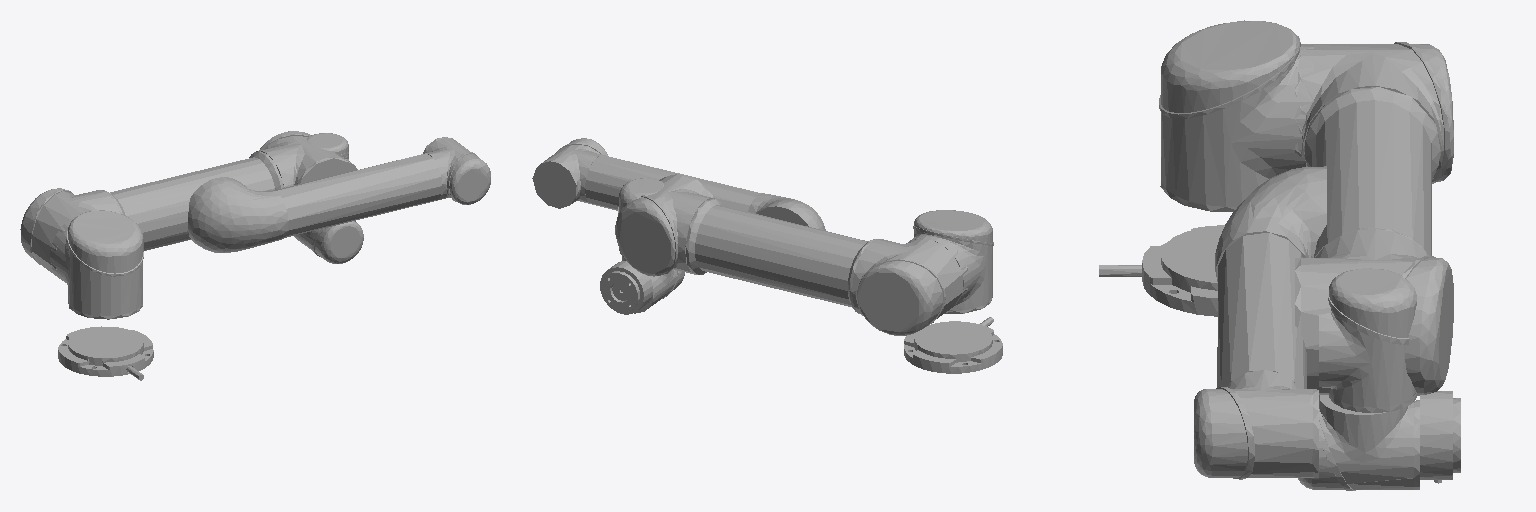
The robot description file, URDF, robot "robotiq_ur3":
<?xml version="1.0" ?>
<!-- =================================================================================== -->
<!-- |    This document was autogenerated by xacro from robitiq_ur3.urdf.xacro         | -->
<!-- |    EDITING THIS FILE BY HAND IS NOT RECOMMENDED                                 | -->
<!-- =================================================================================== -->
<robot name="robotiq_ur3" xmlns:xacro="http://ros.org/wiki/xacro">
  <material name="Black">
    <color rgba="0.3 0.3 0.3 1.0"/>
  </material>

  <gazebo>
    <plugin filename="libgazebo_ros_control.so" name="ros_control">
      <!--robotNamespace>/</robotNamespace-->
      <!--robotSimType>gazebo_ros_control/DefaultRobotHWSim</robotSimType-->
    </plugin>
    <!--
    <plugin name="gazebo_ros_power_monitor_controller" filename="libgazebo_ros_power_monitor.so">
      <alwaysOn>true</alwaysOn>
      <updateRate>1.0</updateRate>
      <timeout>5</timeout>
      <powerStateTopic>power_state</powerStateTopic>
      <powerStateRate>10.0</powerStateRate>
      <fullChargeCapacity>87.78</fullChargeCapacity>     
      <dischargeRate>-474</dischargeRate>
      <chargeRate>525</chargeRate>
      <dischargeVoltage>15.52</dischargeVoltage>
      <chargeVoltage>16.41</chargeVoltage>
    </plugin>
-->
  </gazebo>
  <!--
  Author: [author]
-->
  <!-- measured from model -->
  <link name="base_link">
    <visual>
      <geometry>
        <mesh filename="./meshes/ur3/collision/base.stl"/>
      </geometry>
      <material name="LightGrey">
        <color rgba="0.7 0.7 0.7 1.0"/>
      </material>
    </visual>
    <collision>
      <geometry>
        <mesh filename="./meshes/ur3/collision/base.stl"/>
      </geometry>
    </collision>
    <inertial>
      <mass value="2.0"/>
      <origin rpy="0 0 0" xyz="0.0 0.0 0.0"/>
      <inertia ixx="0.0030531654454" ixy="0.0" ixz="0.0" iyy="0.0030531654454" iyz="0.0" izz="0.005625"/>
    </inertial>
  </link>
  <joint name="shoulder_pan_joint" type="revolute">
    <parent link="base_link"/>
    <child link="shoulder_link"/>
    <origin rpy="0.0 0.0 0.0" xyz="0.0 0.0 0.1519"/>
    <axis xyz="0 0 1"/>
    <limit effort="330.0" lower="-3.141592653589793" upper="3.141592653589793" velocity="2.16"/>
    <dynamics damping="0.0" friction="0.0"/>
  </joint>
  <link name="shoulder_link">
    <visual>
      <geometry>
        <mesh filename="./meshes/ur3/collision/shoulder.stl"/>
      </geometry>
      <material name="LightGrey">
        <color rgba="0.7 0.7 0.7 1.0"/>
      </material>
    </visual>
    <collision>
      <geometry>
        <mesh filename="./meshes/ur3/collision/shoulder.stl"/>
      </geometry>
    </collision>
    <inertial>
      <mass value="2.0"/>
      <origin rpy="0 0 0" xyz="0.0 0.0 0.0"/>
      <inertia ixx="0.008093163429399999" ixy="0.0" ixz="0.0" iyy="0.008093163429399999" iyz="0.0" izz="0.005625"/>
    </inertial>
  </link>
  <joint name="shoulder_lift_joint" type="revolute">
    <parent link="shoulder_link"/>
    <child link="upper_arm_link"/>
    <origin rpy="0.0 1.5707963267948966 0.0" xyz="0.0 0.1198 0.0"/>
    <axis xyz="0 1 0"/>
    <limit effort="330.0" lower="-3.141592653589793" upper="3.141592653589793" velocity="2.16"/>
    <dynamics damping="0.0" friction="0.0"/>
  </joint>
  <link name="upper_arm_link">
    <visual>
      <geometry>
        <mesh filename="./meshes/ur3/collision/upperarm.stl"/>
      </geometry>
      <material name="LightGrey">
        <color rgba="0.7 0.7 0.7 1.0"/>
      </material>
    </visual>
    <collision>
      <geometry>
        <mesh filename="./meshes/ur3/collision/upperarm.stl"/>
      </geometry>
    </collision>
    <inertial>
      <mass value="3.42"/>
      <origin rpy="0 0 0" xyz="0.0 0.0 0.121825"/>
      <inertia ixx="0.021728483221103233" ixy="0.0" ixz="0.0" iyy="0.021728483221103233" iyz="0.0" izz="0.00961875"/>
    </inertial>
  </link>
  <joint name="elbow_joint" type="revolute">
    <parent link="upper_arm_link"/>
    <child link="forearm_link"/>
    <origin rpy="0.0 0.0 0.0" xyz="0.0 -0.0925 0.24365"/>
    <axis xyz="0 1 0"/>
    <limit effort="150.0" lower="-3.141592653589793" upper="3.141592653589793" velocity="3.15"/>
    <dynamics damping="0.0" friction="0.0"/>
  </joint>
  <link name="forearm_link">
    <visual>
      <geometry>
        <mesh filename="./meshes/ur3/collision/forearm.stl"/>
      </geometry>
      <material name="LightGrey">
        <color rgba="0.7 0.7 0.7 1.0"/>
      </material>
    </visual>
    <collision>
      <geometry>
        <mesh filename="./meshes/ur3/collision/forearm.stl"/>
      </geometry>
    </collision>
    <inertial>
      <mass value="1.26"/>
      <origin rpy="0 0 0" xyz="0.0 0.0 0.106625"/>
      <inertia ixx="0.006546806443776375" ixy="0.0" ixz="0.0" iyy="0.006546806443776375" iyz="0.0" izz="0.00354375"/>
    </inertial>
  </link>
  <joint name="wrist_1_joint" type="revolute">
    <parent link="forearm_link"/>
    <child link="wrist_1_link"/>
    <origin rpy="0.0 1.5707963267948966 0.0" xyz="0.0 0.0 0.21325"/>
    <axis xyz="0 1 0"/>
    <limit effort="54.0" lower="-3.141592653589793" upper="3.141592653589793" velocity="3.2"/>
    <dynamics damping="0.0" friction="0.0"/>
  </joint>
  <link name="wrist_1_link">
    <visual>
      <geometry>
        <mesh filename="./meshes/ur3/collision/wrist1.stl"/>
      </geometry>
      <material name="LightGrey">
        <color rgba="0.7 0.7 0.7 1.0"/>
      </material>
    </visual>
    <collision>
      <geometry>
        <mesh filename="./meshes/ur3/collision/wrist1.stl"/>
      </geometry>
    </collision>
    <inertial>
      <mass value="0.8"/>
      <origin rpy="0 0 0" xyz="0.0 0.0 0.0"/>
      <inertia ixx="0.002084999166" ixy="0.0" ixz="0.0" iyy="0.002084999166" iyz="0.0" izz="0.00225"/>
    </inertial>
  </link>
  <joint name="wrist_2_joint" type="revolute">
    <parent link="wrist_1_link"/>
    <child link="wrist_2_link"/>
    <origin rpy="0.0 0.0 0.0" xyz="0.0 0.08505 0.0"/>
    <axis xyz="0 0 1"/>
    <limit effort="54.0" lower="-3.141592653589793" upper="3.141592653589793" velocity="3.2"/>
    <dynamics damping="0.0" friction="0.0"/>
  </joint>
  <link name="wrist_2_link">
    <visual>
      <geometry>
        <mesh filename="./meshes/ur3/collision/wrist2.stl"/>
      </geometry>
      <material name="LightGrey">
        <color rgba="0.7 0.7 0.7 1.0"/>
      </material>
    </visual>
    <collision>
      <geometry>
        <mesh filename="./meshes/ur3/collision/wrist2.stl"/>
      </geometry>
    </collision>
    <inertial>
      <mass value="0.8"/>
      <origin rpy="0 0 0" xyz="0.0 0.0 0.0"/>
      <inertia ixx="0.002084999166" ixy="0.0" ixz="0.0" iyy="0.002084999166" iyz="0.0" izz="0.00225"/>
    </inertial>
  </link>
  <joint name="wrist_3_joint" type="revolute">
    <parent link="wrist_2_link"/>
    <child link="wrist_3_link"/>
    <origin rpy="0.0 0.0 0.0" xyz="0.0 0.0 0.08535"/>
    <axis xyz="0 1 0"/>
    <limit effort="54.0" lower="-3.141592653589793" upper="3.141592653589793" velocity="3.2"/>
    <dynamics damping="0.0" friction="0.0"/>
  </joint>
  <link name="wrist_3_link">
    <visual>
      <geometry>
        <mesh filename="./meshes/ur3/collision/wrist3.stl"/>
      </geometry>
      <material name="LightGrey">
        <color rgba="0.7 0.7 0.7 1.0"/>
      </material>
    </visual>
    <collision>
      <geometry>
        <mesh filename="./meshes/ur3/collision/wrist3.stl"/>
      </geometry>
    </collision>
    <inertial>
      <mass value="0.35"/>
      <origin rpy="0 0 0" xyz="0.0 0.0 0.0"/>
      <inertia ixx="0.0009121871351249998" ixy="0.0" ixz="0.0" iyy="0.0009121871351249998" iyz="0.0" izz="0.000984375"/>
    </inertial>
  </link>
  <joint name="ee_fixed_joint" type="fixed">
    <parent link="wrist_3_link"/>
    <child link="ee_link"/>
    <origin rpy="0.0 0.0 1.5707963267948966" xyz="0.0 0.0819 0.0"/>
  </joint>
  <link name="ee_link">
    <collision>
      <geometry>
        <box size="0.01 0.01 0.01"/>
      </geometry>
      <origin rpy="0 0 0" xyz="-0.01 0 0"/>
    </collision>
  </link>
  <transmission name="shoulder_pan_trans">
    <type>transmission_interface/SimpleTransmission</type>
    <joint name="shoulder_pan_joint">
      <hardwareInterface>hardware_interface/PositionJointInterface</hardwareInterface>
    </joint>
    <actuator name="shoulder_pan_motor">
      <mechanicalReduction>1</mechanicalReduction>
    </actuator>
  </transmission>
  <transmission name="shoulder_lift_trans">
    <type>transmission_interface/SimpleTransmission</type>
    <joint name="shoulder_lift_joint">
      <hardwareInterface>hardware_interface/PositionJointInterface</hardwareInterface>
    </joint>
    <actuator name="shoulder_lift_motor">
      <mechanicalReduction>1</mechanicalReduction>
    </actuator>
  </transmission>
  <transmission name="elbow_trans">
    <type>transmission_interface/SimpleTransmission</type>
    <joint name="elbow_joint">
      <hardwareInterface>hardware_interface/PositionJointInterface</hardwareInterface>
    </joint>
    <actuator name="elbow_motor">
      <mechanicalReduction>1</mechanicalReduction>
    </actuator>
  </transmission>
  <transmission name="wrist_1_trans">
    <type>transmission_interface/SimpleTransmission</type>
    <joint name="wrist_1_joint">
      <hardwareInterface>hardware_interface/PositionJointInterface</hardwareInterface>
    </joint>
    <actuator name="wrist_1_motor">
      <mechanicalReduction>1</mechanicalReduction>
    </actuator>
  </transmission>
  <transmission name="wrist_2_trans">
    <type>transmission_interface/SimpleTransmission</type>
    <joint name="wrist_2_joint">
      <hardwareInterface>hardware_interface/PositionJointInterface</hardwareInterface>
    </joint>
    <actuator name="wrist_2_motor">
      <mechanicalReduction>1</mechanicalReduction>
    </actuator>
  </transmission>
  <transmission name="wrist_3_trans">
    <type>transmission_interface/SimpleTransmission</type>
    <joint name="wrist_3_joint">
      <hardwareInterface>hardware_interface/PositionJointInterface</hardwareInterface>
    </joint>
    <actuator name="wrist_3_motor">
      <mechanicalReduction>1</mechanicalReduction>
    </actuator>
  </transmission>
  <!-- nothing to do here at the moment -->
  <!-- ROS base_link to UR 'Base' Coordinates transform -->
  <link name="base"/>
  <joint name="base_link-base_fixed_joint" type="fixed">
    <!-- NOTE: this rotation is only needed as long as base_link itself is
                 not corrected wrt the real robot (ie: rotated over 180
                 degrees)
      -->
    <origin rpy="0 0 -3.141592653589793" xyz="0 0 0"/>
    <parent link="base_link"/>
    <child link="base"/>
  </joint>
  <!-- Frame coincident with all-zeros TCP on UR controller -->
  <link name="tool0"/>
  <joint name="wrist_3_link-tool0_fixed_joint" type="fixed">
    <origin rpy="-1.5707963267948966 0 0" xyz="0 0.0819 0"/>
    <parent link="wrist_3_link"/>
    <child link="tool0"/>
  </joint>
  <link name="world"/>
  <joint name="world_joint" type="fixed">
    <parent link="world"/>
    <child link="base_link"/>
    <origin rpy="0.0 0.0 0.0" xyz="0.0 0.0 0.0"/>
  </joint>

  <!-- base -->
  <joint name="ee_link_gripper_base_joint" type="fixed">
    <origin rpy="0 1.5707963267948966 0" xyz="0 0 0"/>
    <parent link="ee_link"/>
    <child link="gripper_base"/>
  </joint>
  <link name="gripper_base">
    <!-- inertial>
				<mass value="0.1"/>
				<origin xyz="0 0 0.055"  />
				<cylinder_inertia radius="0.06" length="0.11" mass="0.1"/>
			</inertial -->
    <visual>
      <geometry>
        <mesh filename="./meshes/2f85/collision/base.stl" scale="0.001 0.001 0.001"/>
      </geometry>
      <material name="Black"/>
    </visual>
    <collision>
      <geometry>
        <mesh filename="./meshes/2f85/collision/base.stl" scale="0.001 0.001 0.001"/>
      </geometry>
    </collision>
  </link>
  <!-- right finger -->
  <joint name="gripper_right_driver_joint" type="revolute">
    <origin rpy="0 0 0" xyz="0 0.0306011 0.054904"/>
    <parent link="gripper_base"/>
    <child link="gripper_right_driver"/>
    <axis xyz="1 0 0"/>
    <limit effort="60" lower="0.0" upper="0.8726644444444445" velocity="1.919861777777778"/>
  </joint>
  <link name="gripper_right_driver">
    <!-- inertial>
				<mass value="0.1"/>
				<origin xyz="0 0 0.055"  />
				<cylinder_inertia radius="0.06" length="0.11" mass="0.1"/>
			</inertial -->
    <visual>
      <geometry>
        <mesh filename="./meshes/2f85/collision/driver.stl" scale="0.001 0.001 0.001"/>
      </geometry>
      <material name="Black"/>
    </visual>
    <collision>
      <geometry>
        <mesh filename="./meshes/2f85/collision/driver.stl" scale="0.001 0.001 0.001"/>
      </geometry>
    </collision>
  </link>
  <joint name="gripper_right_coupler_joint" type="fixed">
    <origin rpy="0 0 0" xyz="0 0.0315 -0.0041"/>
    <parent link="gripper_right_driver"/>
    <child link="gripper_right_coupler"/>
  </joint>
  <link name="gripper_right_coupler">
    <!-- inertial>
				<mass value="0.1"/>
				<origin xyz="0 0 0.055"  />
				<cylinder_inertia radius="0.06" length="0.11" mass="0.1"/>
			</inertial -->
    <visual>
      <geometry>
        <mesh filename="./meshes/2f85/collision/coupler.stl" scale="0.001 0.001 0.001"/>
      </geometry>
      <material name="Black"/>
    </visual>
    <collision>
      <geometry>
        <mesh filename="./meshes/2f85/collision/coupler.stl" scale="0.001 0.001 0.001"/>
      </geometry>
    </collision>
  </link>
  <joint name="gripper_right_follower_joint" type="revolute">
    <origin rpy="0 0 0" xyz="0 0.0061 0.0471"/>
    <parent link="gripper_right_coupler"/>
    <child link="gripper_right_follower"/>
    <axis xyz="1 0 0"/>
    <limit effort="176" lower="-2.9670591111111113" upper="2.9670591111111113" velocity="1.919861777777778"/>
    <mimic joint="gripper_right_driver_joint" multiplier="-1"/>
  </joint>
  <link name="gripper_right_follower">
    <visual>
      <geometry>
        <mesh filename="./meshes/2f85/collision/follower.stl" scale="0.001 0.001 0.001"/>
      </geometry>
      <material name="Black"/>
    </visual>
    <collision>
      <geometry>
        <mesh filename="./meshes/2f85/collision/follower.stl" scale="0.001 0.001 0.001"/>
      </geometry>
    </collision>
  </link>
  <joint name="gripper_right_pad_joint" type="fixed">
    <parent link="gripper_right_follower"/>
    <child link="gripper_right_pad"/>
  </joint>
  <link name="gripper_right_pad">
    <!-- inertial>
				<mass value="0.1"/>
				<origin xyz="0 0 0.055"  />
				<cylinder_inertia radius="0.06" length="0.11" mass="0.1"/>
			</inertial -->
    <visual>
      <geometry>
        <mesh filename="./meshes/2f85/collision/pad.stl" scale="0.001 0.001 0.001"/>
      </geometry>
      <material name="Black"/>
    </visual>
    <collision>
      <geometry>
        <mesh filename="./meshes/2f85/collision/pad.stl" scale="0.001 0.001 0.001"/>
      </geometry>
    </collision>
  </link>
  <joint name="gripper_right_spring_link_joint" type="revolute">
    <origin rpy="0 0 0" xyz="0 0.012 0.0614"/>
    <parent link="gripper_base"/>
    <child link="gripper_right_spring_link"/>
    <axis xyz="1 0 0"/>
    <limit effort="176" lower="-2.9670591111111113" upper="2.9670591111111113" velocity="1.919861777777778"/>
    <mimic joint="gripper_right_driver_joint" multiplier="1"/>
  </joint>
  <link name="gripper_right_spring_link">
    <!-- inertial>
				<mass value="0.1"/>
				<origin xyz="0 0 0.055"  />
				<cylinder_inertia radius="0.06" length="0.11" mass="0.1"/>
			</inertial -->
    <visual>
      <geometry>
        <mesh filename="./meshes/2f85/collision/spring_link.stl" scale="0.001 0.001 0.001"/>
      </geometry>
      <material name="Black"/>
    </visual>
    <collision>
      <geometry>
        <mesh filename="./meshes/2f85/collision/spring_link.stl" scale="0.001 0.001 0.001"/>
      </geometry>
    </collision>
  </link>
  <!-- left finger -->
  <joint name="gripper_left_driver_joint" type="revolute">
    <origin rpy="0 0 3.141592653589793" xyz="0 -0.0306011 0.054904"/>
    <parent link="gripper_base"/>
    <child link="gripper_left_driver"/>
    <axis xyz="1 0 0"/>
    <limit effort="176" lower="0.0" upper="0.8726644444444445" velocity="1.919861777777778"/>
    <mimic joint="gripper_right_driver_joint" multiplier="1"/>
  </joint>
  <link name="gripper_left_driver">
    <!-- inertial>
				<mass value="0.1"/>
				<origin xyz="0 0 0.055"  />
				<cylinder_inertia radius="0.06" length="0.11" mass="0.1"/>
			</inertial -->
    <visual>
      <geometry>
        <mesh filename="./meshes/2f85/collision/driver.stl" scale="0.001 0.001 0.001"/>
      </geometry>
      <material name="Black"/>
    </visual>
    <collision>
      <geometry>
        <mesh filename="./meshes/2f85/collision/driver.stl" scale="0.001 0.001 0.001"/>
      </geometry>
    </collision>
  </link>
  <joint name="gripper_left_coupler_joint" type="fixed">
    <origin rpy="0 0 0" xyz="0 0.0315 -0.0041"/>
    <parent link="gripper_left_driver"/>
    <child link="gripper_left_coupler"/>
  </joint>
  <link name="gripper_left_coupler">
    <!-- inertial>
				<mass value="0.1"/>
				<origin xyz="0 0 0.055"  />
				<cylinder_inertia radius="0.06" length="0.11" mass="0.1"/>
			</inertial -->
    <visual>
      <geometry>
        <mesh filename="./meshes/2f85/collision/coupler.stl" scale="0.001 0.001 0.001"/>
      </geometry>
      <material name="Black"/>
    </visual>
    <collision>
      <geometry>
        <mesh filename="./meshes/2f85/collision/coupler.stl" scale="0.001 0.001 0.001"/>
      </geometry>
    </collision>
  </link>
  <joint name="gripper_left_follower_joint" type="revolute">
    <origin rpy="0 0 0" xyz="0 0.0061 0.0471"/>
    <parent link="gripper_left_coupler"/>
    <child link="gripper_left_follower"/>
    <axis xyz="1 0 0"/>
    <limit effort="176" lower="-2.9670591111111113" upper="2.9670591111111113" velocity="1.919861777777778"/>
    <mimic joint="gripper_right_driver_joint" multiplier="-1"/>
  </joint>
  <link name="gripper_left_follower">
    <visual>
      <geometry>
        <mesh filename="./meshes/2f85/collision/follower.stl" scale="0.001 0.001 0.001"/>
      </geometry>
      <material name="Black"/>
    </visual>
    <collision>
      <geometry>
        <mesh filename="./meshes/2f85/collision/follower.stl" scale="0.001 0.001 0.001"/>
      </geometry>
    </collision>
  </link>
  <joint name="gripper_left_pad_joint" type="fixed">
    <parent link="gripper_left_follower"/>
    <child link="gripper_left_pad"/>
  </joint>
  <link name="gripper_left_pad">
    <!-- inertial>
				<mass value="0.1"/>
				<origin xyz="0 0 0.055"  />
				<cylinder_inertia radius="0.06" length="0.11" mass="0.1"/>
			</inertial -->
    <visual>
      <geometry>
        <mesh filename="./meshes/2f85/collision/pad.stl" scale="0.001 0.001 0.001"/>
      </geometry>
      <material name="Black"/>
    </visual>
    <collision>
      <geometry>
        <mesh filename="./meshes/2f85/collision/pad.stl" scale="0.001 0.001 0.001"/>
      </geometry>
    </collision>
  </link>
  <joint name="gripper_left_spring_link_joint" type="revolute">
    <origin rpy="0 0 3.141592653589793" xyz="0 -0.012 0.0614"/>
    <parent link="gripper_base"/>
    <child link="gripper_left_spring_link"/>
    <axis xyz="1 0 0"/>
    <limit effort="176" lower="-2.9670591111111113" upper="2.9670591111111113" velocity="1.919861777777778"/>
    <mimic joint="gripper_right_driver_joint" multiplier="1"/>
  </joint>
  <link name="gripper_left_spring_link">
    <!-- inertial>
				<mass value="0.1"/>
				<origin xyz="0 0 0.055"  />
				<cylinder_inertia radius="0.06" length="0.11" mass="0.1"/>
			</inertial -->
    <visual>
      <geometry>
        <mesh filename="./meshes/2f85/collision/spring_link.stl" scale="0.001 0.001 0.001"/>
      </geometry>
      <material name="Black"/>
    </visual>
    <collision>
      <geometry>
        <mesh filename="./meshes/2f85/collision/spring_link.stl" scale="0.001 0.001 0.001"/>
      </geometry>
    </collision>
  </link>
  <transmission name="gripper_right_driver_trans">
    <type>transmission_interface/SimpleTransmission</type>
    <joint name="gripper_right_driver_joint">
      <hardwareInterface>hardware_interface/PositionJointInterface</hardwareInterface>
    </joint>
    <actuator name="gripper_right_driver_motor">
      <mechanicalReduction>1</mechanicalReduction>
    </actuator>
  </transmission>
</robot>

--- Facts derived from the render (not from the file) ---
3 views of the same robot in one strip: view 1: azimuth 30°, elevation 25°; view 2: azimuth 150°, elevation 25°; view 3: azimuth 270°, elevation 25° (orthographic).
Model robotiq_ur3 with 22 links and 21 joints (12 revolute, 9 fixed), rooted at world, posed all joints at 0.
Links seen in each view (by area): view 1: forearm_link, upper_arm_link, shoulder_link, base_link, wrist_2_link, wrist_1_link; view 2: upper_arm_link, forearm_link, shoulder_link, base_link, wrist_3_link, wrist_1_link, wrist_2_link; view 3: upper_arm_link, forearm_link, shoulder_link, wrist_1_link, wrist_2_link, base_link, wrist_3_link.
Link boxes in pixels (x1=…): forearm_link: x1=188, y1=137, x2=490, y2=252; upper_arm_link: x1=20, y1=131, x2=354, y2=282; shoulder_link: x1=50, y1=210, x2=143, y2=319; base_link: x1=58, y1=326, x2=153, y2=380; wrist_2_link: x1=294, y1=221, x2=363, y2=263; wrist_1_link: x1=307, y1=133, x2=357, y2=169; upper_arm_link: x1=615, y1=173, x2=967, y2=335; forearm_link: x1=532, y1=138, x2=825, y2=230; shoulder_link: x1=913, y1=210, x2=993, y2=313; base_link: x1=904, y1=317, x2=1002, y2=373; wrist_3_link: x1=600, y1=261, x2=652, y2=314; wrist_1_link: x1=618, y1=178, x2=663, y2=256; wrist_2_link: x1=622, y1=256, x2=684, y2=313; upper_arm_link: x1=1295, y1=42, x2=1453, y2=395; forearm_link: x1=1194, y1=166, x2=1326, y2=479; shoulder_link: x1=1159, y1=20, x2=1313, y2=211; wrist_1_link: x1=1319, y1=268, x2=1416, y2=412; wrist_2_link: x1=1298, y1=395, x2=1419, y2=490; base_link: x1=1099, y1=225, x2=1224, y2=316; wrist_3_link: x1=1420, y1=391, x2=1460, y2=483.
Size in the robot's own frame: 0.7485 by 0.3043 by 0.2234 metres.
Meshes: 13 distinct files referenced, 8 mesh visuals loaded (7 binary STL); not drawn: 10 (reference not matched to a file when rendering).